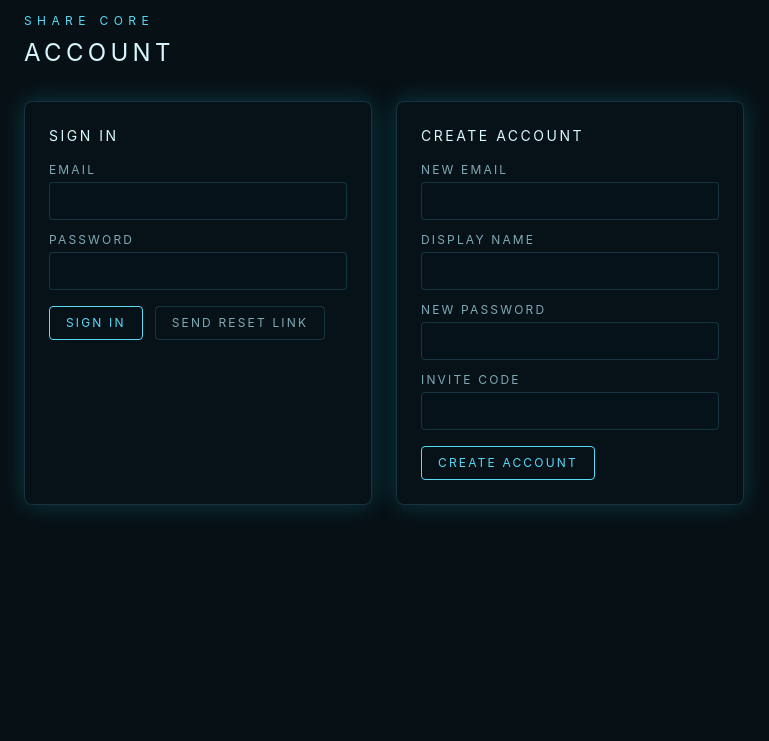
AccountPage anonymous forms › includes the invite code in invite-mode signup
Step 1. Type "ada@example.com" into the field labelled "New Email" → (570, 201), box [421,182,719,220]
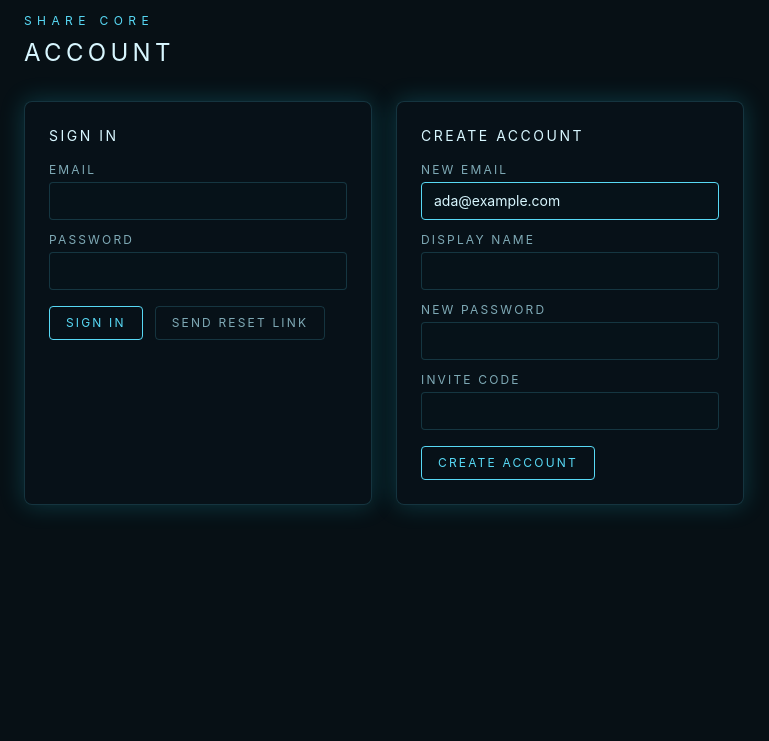
Step 2. Type "Ada" into the field labelled "Display Name" → (570, 271), box [421,252,719,290]
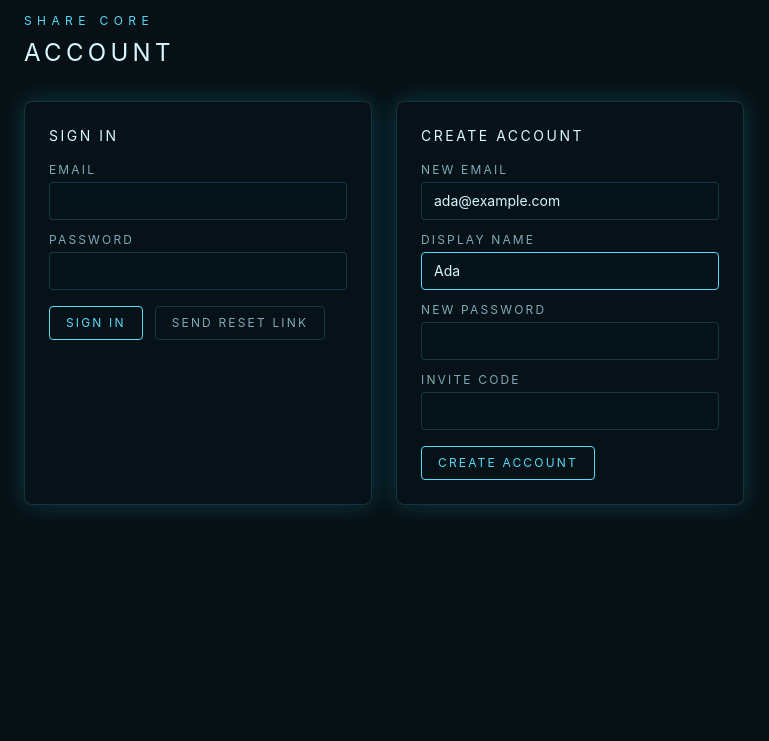
Step 3. Type "hunter22hunter22" into the password field labelled "New Password" → (570, 341), box [421,322,719,360]
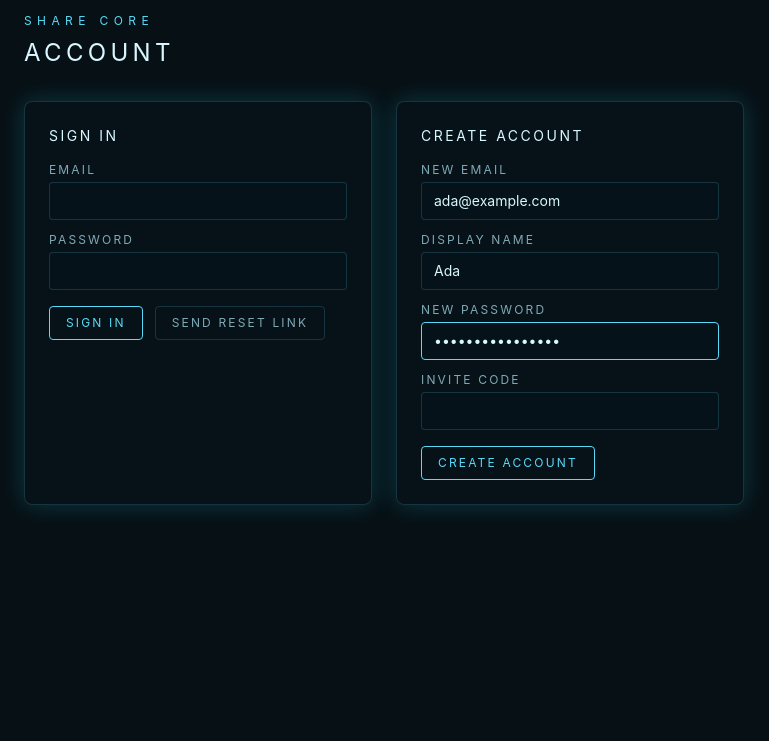
Step 4. Type "INVITEABC234" into the field labelled "Invite Code" → (570, 411), box [421,392,719,430]
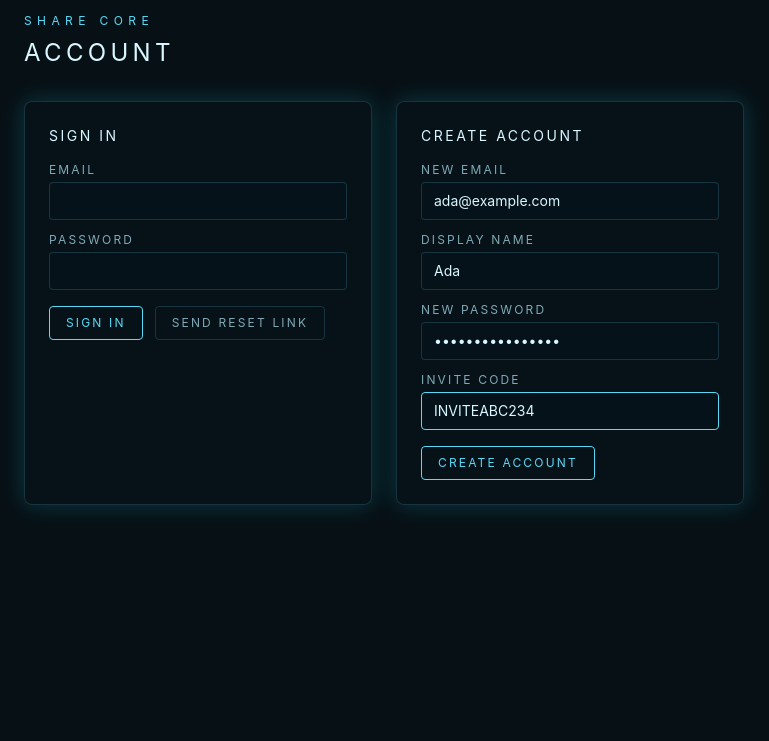
Step 5. Click the button "Create Account" → (508, 463), box [421,446,595,480]
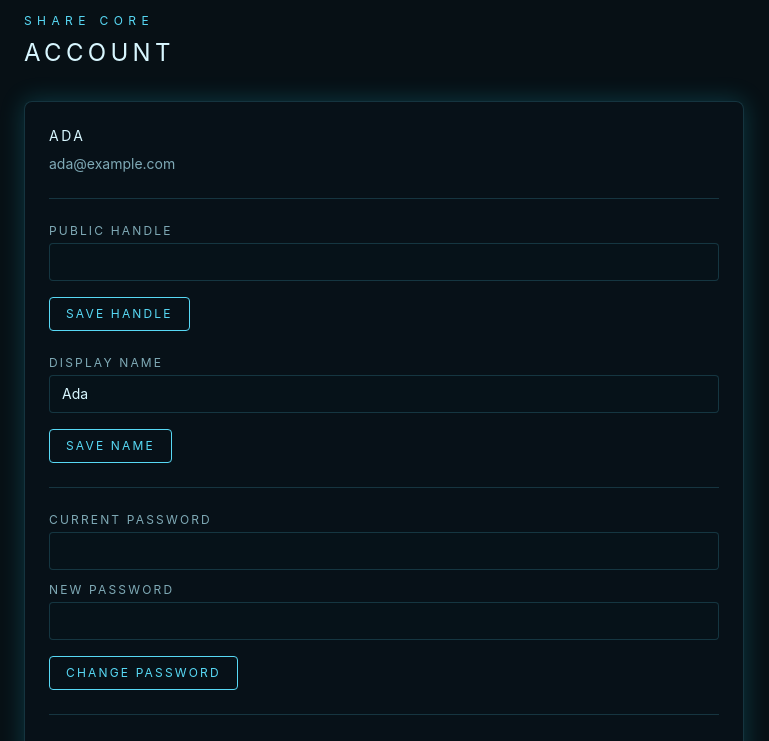
Expected: the text "ada@example.com" is shown, [49,155,175,172]
